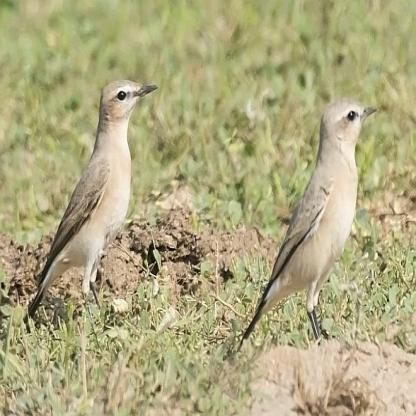Burung: (232, 100, 383, 356), (19, 72, 159, 332)
